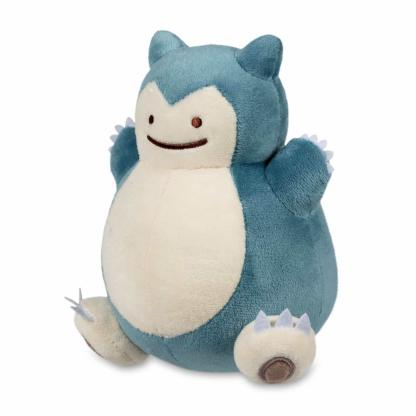Snorlax: (49, 22, 375, 395)
